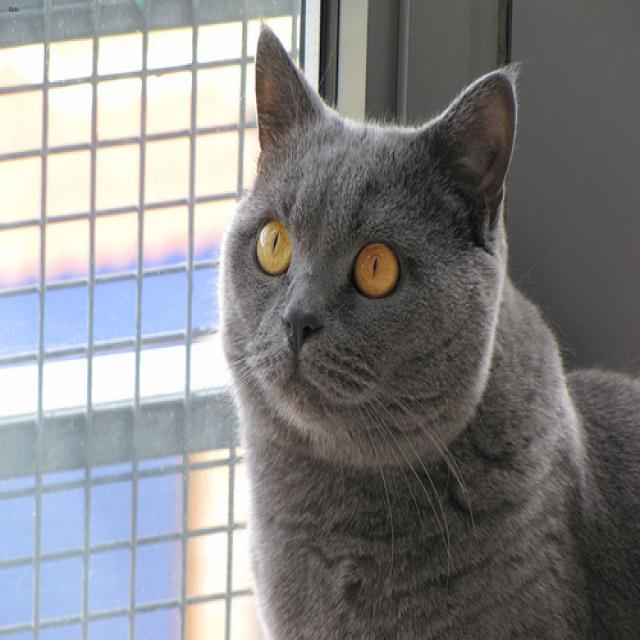British_Shorthair: (219, 19, 514, 433)
